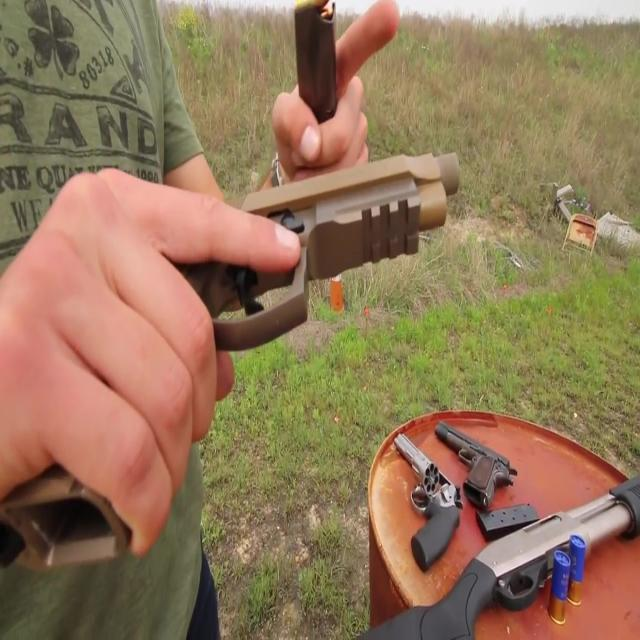Weapon: (6, 12, 466, 397), (364, 418, 639, 640)
